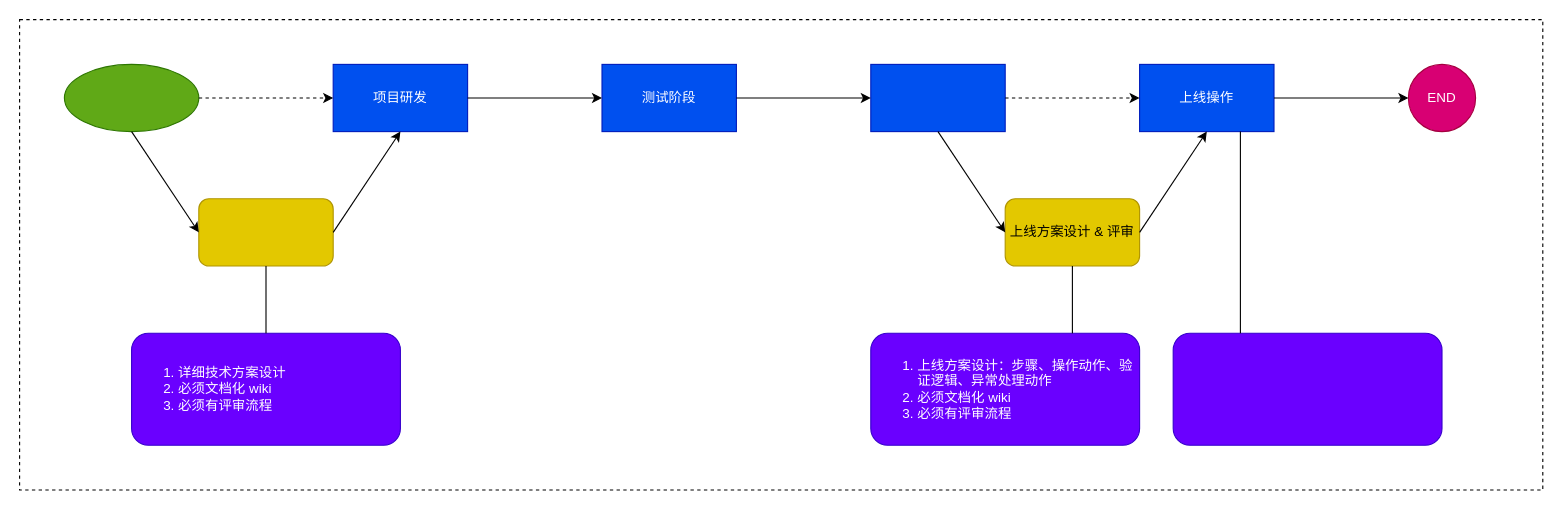
Image size: 1562x510. Some labels were removed from this diagram. The centre of each missing label's shape, as x and y in pixels:
前置：需求通过: the point at 131,97
技术方案设计 & 评审: the point at 265,232
测试准出: the point at 937,97
灰度验证 小流量验证 全量发布 高峰期观测: the point at 1307,388
